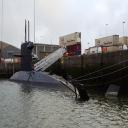submarine: (11, 13, 83, 93)
